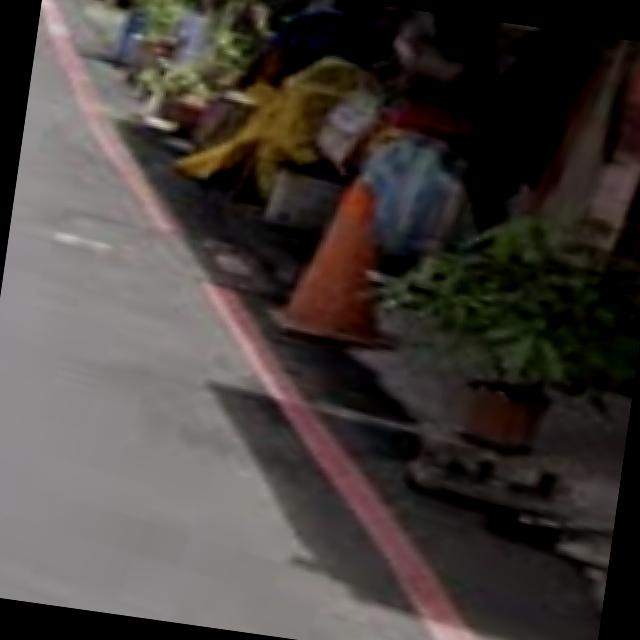cone: (267, 150, 418, 350)
